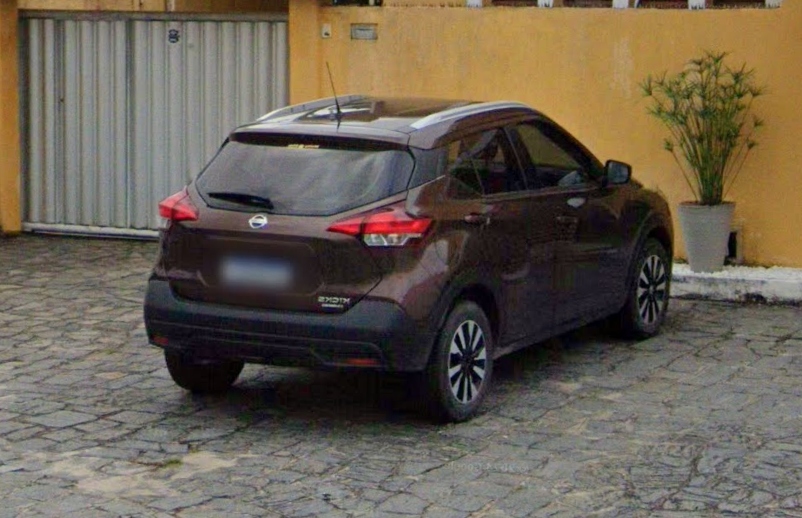car: (140, 59, 676, 423)
